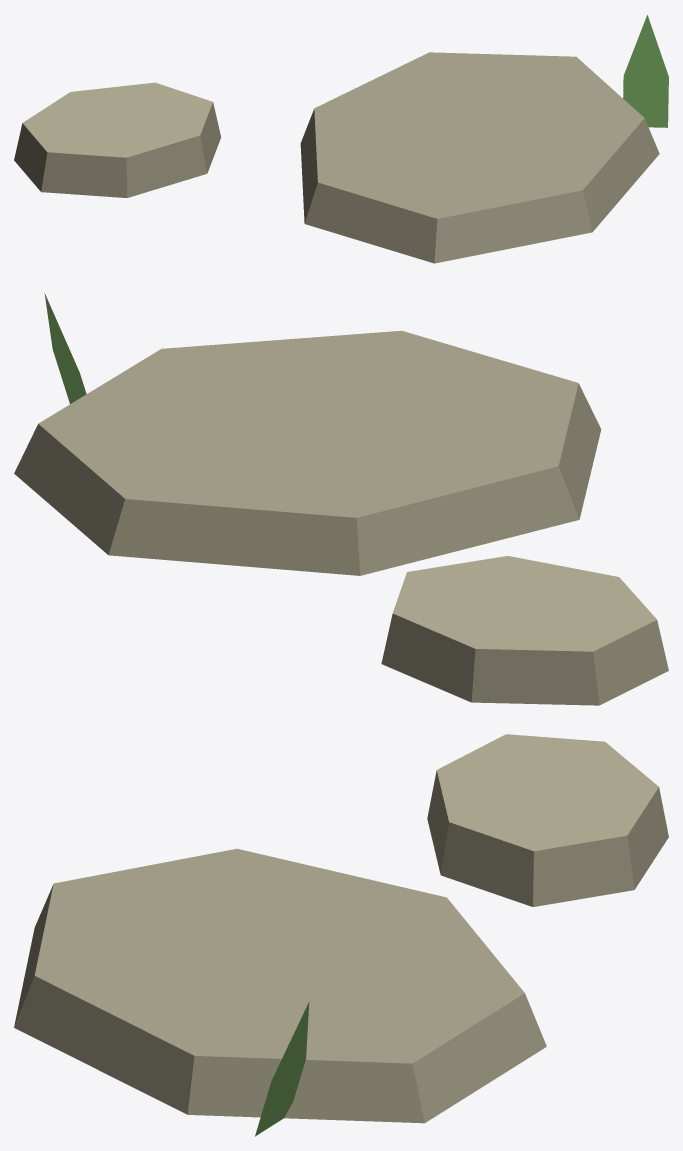
The model's file is gc_pathstones_c.glb.
3 renders of one model, top to bottom at view 1: azimuth 30°, elevation 25°; view 2: azimuth 150°, elevation 25°; view 3: azimuth 270°, elevation 25°, orthographic. The views are drawn at different scales.
Parts seen in each view (by area): view 1: body, body_nh; view 2: body, body_nh; view 3: body, body_nh.
Boxes of the visible parts, x1,y1,x2,y2 form: body: (14, 52, 659, 263); body_nh: (623, 15, 668, 127); body: (14, 330, 668, 705); body_nh: (44, 293, 86, 403); body: (14, 734, 668, 1123); body_nh: (255, 1002, 309, 1136).
Size of the model in its own units: 0.6888 by 0.12 by 0.5272.
